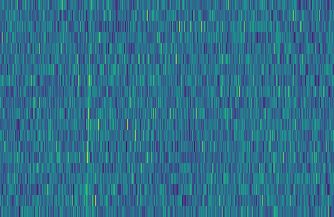signal: (80, 0, 94, 217)
